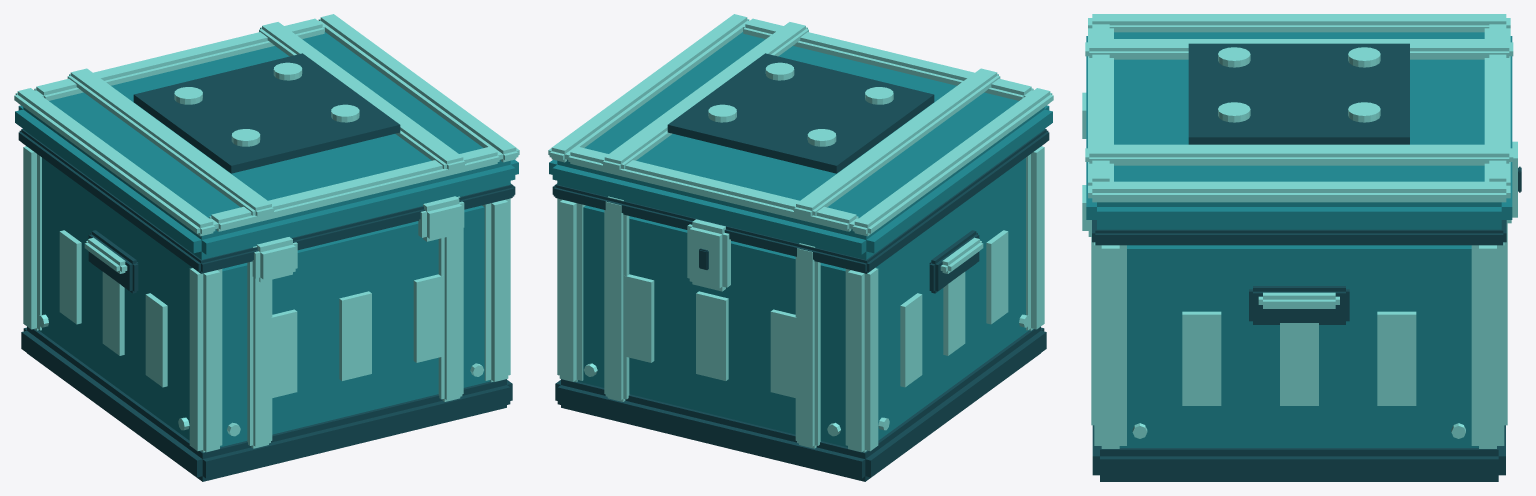
The model's file is crate_diamante.fbx.
The picture shows the model from 3 angles, left to right: view 1: azimuth 30°, elevation 25°; view 2: azimuth 150°, elevation 25°; view 3: azimuth 270°, elevation 25°; orthographic projection. The views are drawn at different scales.
Visible parts, largest first — view 1: crate_diamante_caixa; view 2: crate_diamante_caixa; view 3: crate_diamante_caixa.
Part boxes in pixels (<box>): crate_diamante_caixa: <box>14,14,519,481</box>; crate_diamante_caixa: <box>548,14,1053,481</box>; crate_diamante_caixa: <box>1082,14,1521,481</box>.
Bounding box in the file's own units: 2.68 × 2.15 × 2.7.
1 material, 1 textured.
